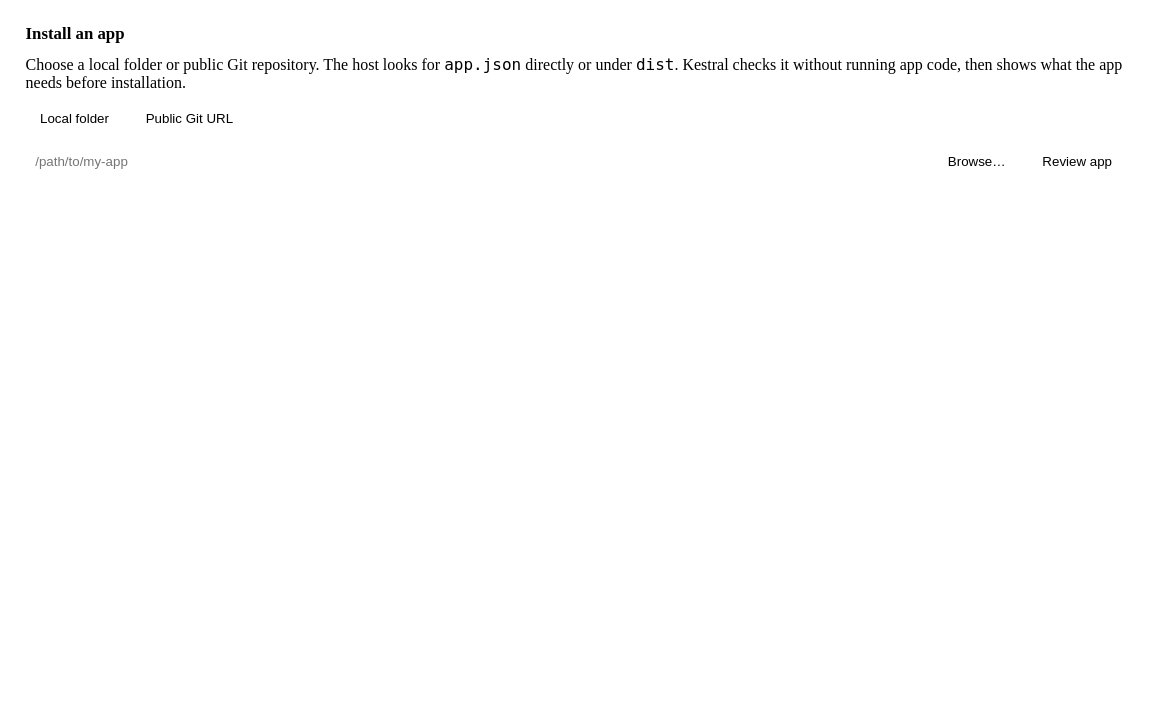
Test: InstallPanel › puts trust, runtime isolation, and permissions first without a duplicate install diff
The image size is (1152, 720).
In the field named "Package directory path": (476, 161) [26,146,925,177], type "C:/pkgs/example"
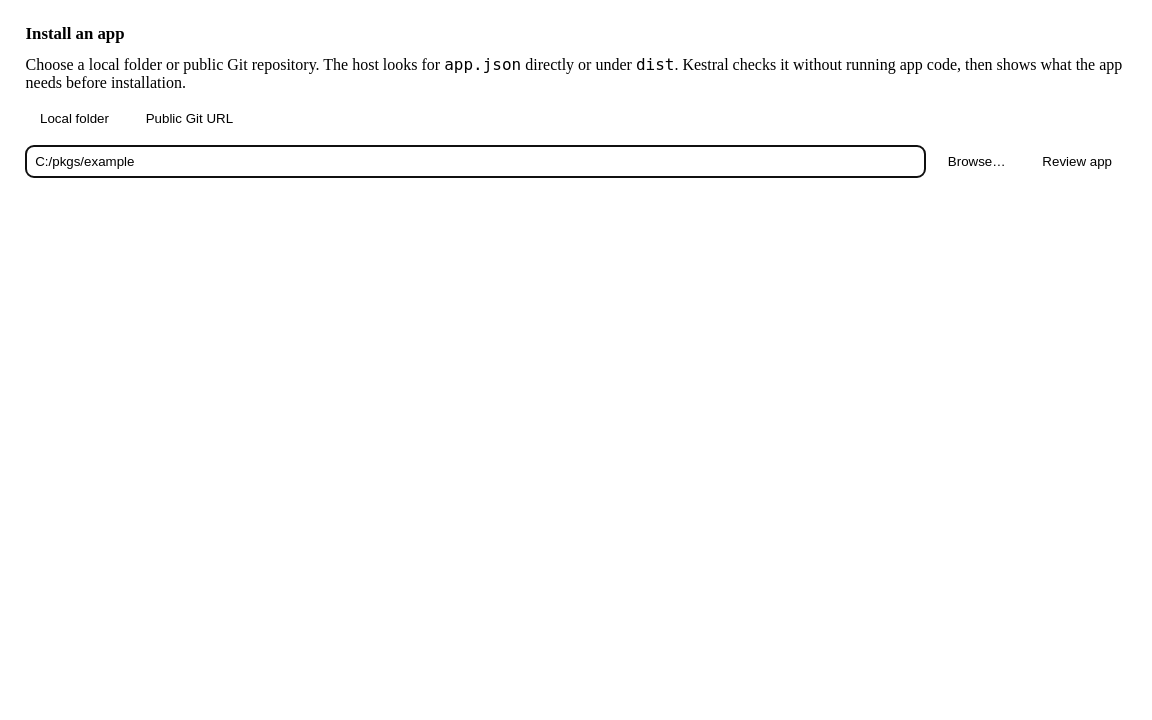
Click the button "Review app": (1077, 161) [1028,146,1126,177]
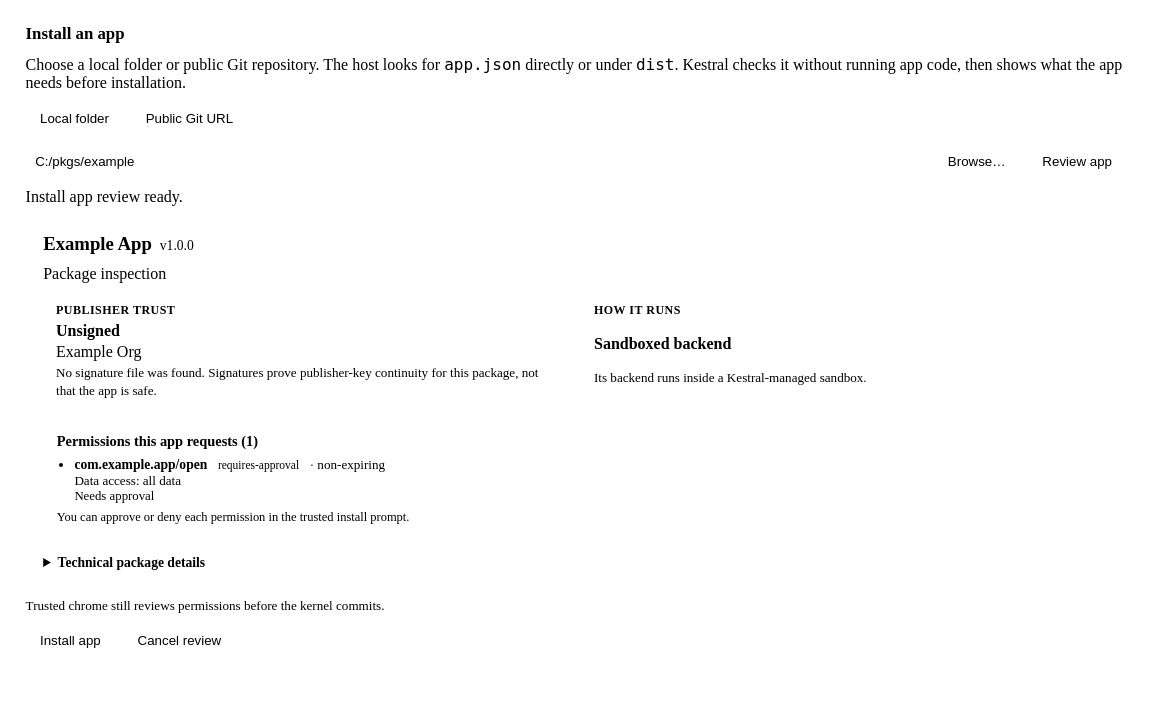
Check: the text "Publisher trust" is shown, box [56,303,175,317]
Check: the text "Sandboxed backend" is shown, box [594,335,731,352]
Check: the heading "Permissions this app requests (1)" is shown, box [57,433,258,449]
